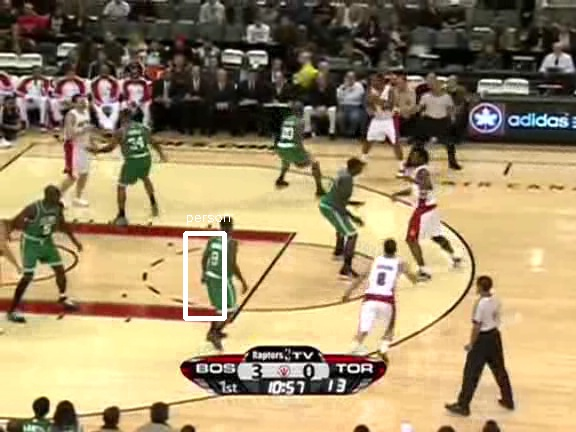person: (203, 233, 237, 314), (202, 233, 236, 314), (204, 233, 238, 314), (203, 232, 237, 313), (203, 234, 237, 315)
target_negative: (302, 31, 536, 246), (306, 272, 469, 289), (212, 379, 325, 385), (490, 341, 541, 353), (538, 394, 570, 399), (531, 375, 534, 412)
